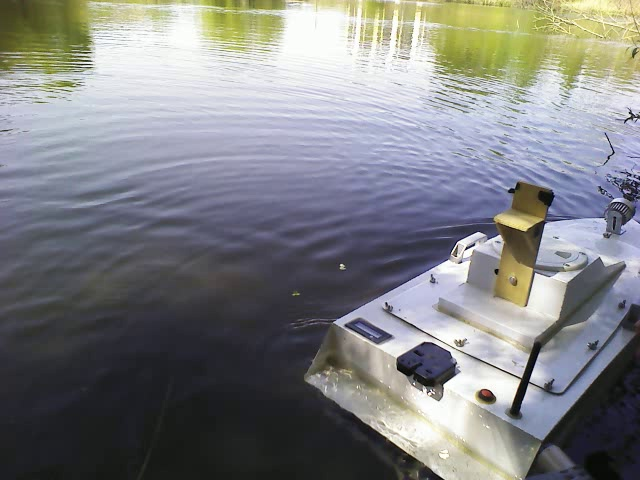boat: (300, 211, 635, 475)
